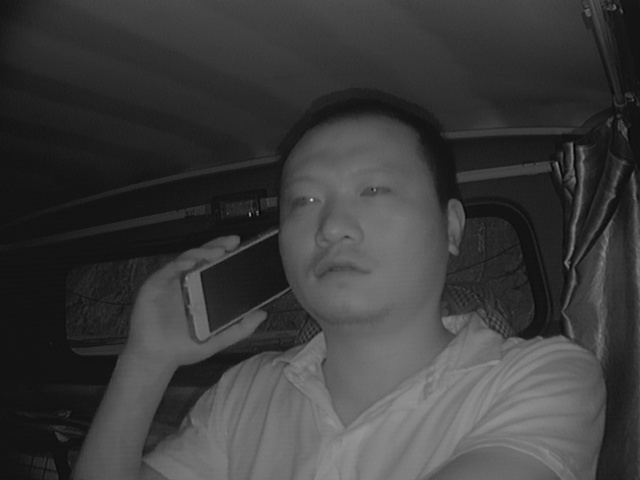hand: (138, 239, 259, 358)
